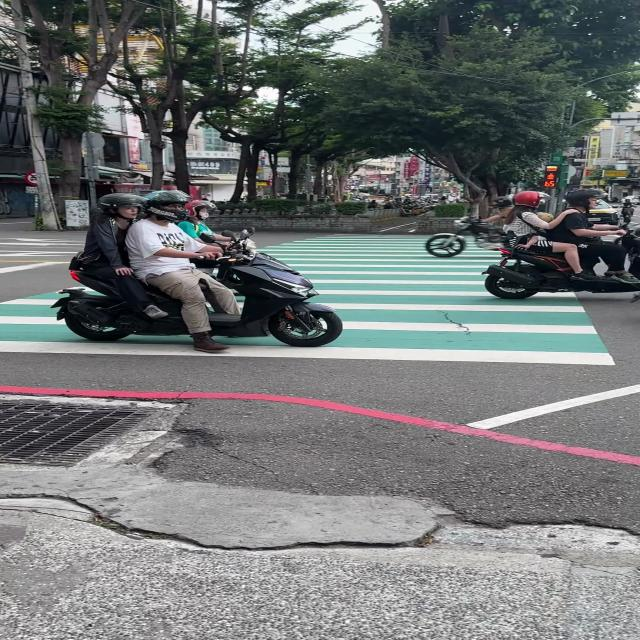car: (589, 200, 620, 224)
crosswalk: (0, 232, 621, 369)
motocycle: (53, 241, 342, 352), (483, 248, 640, 299), (426, 216, 505, 258), (622, 226, 640, 271)
